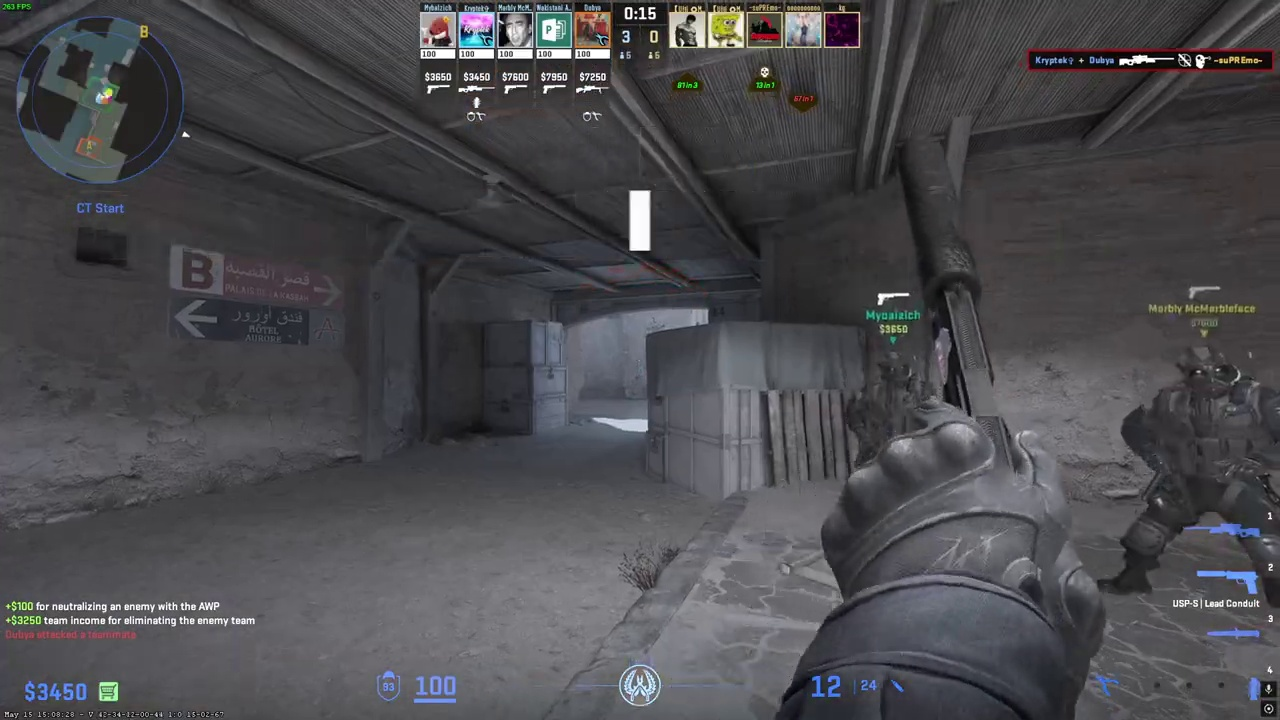CT: (1126, 342, 1280, 618), (843, 349, 945, 471)
